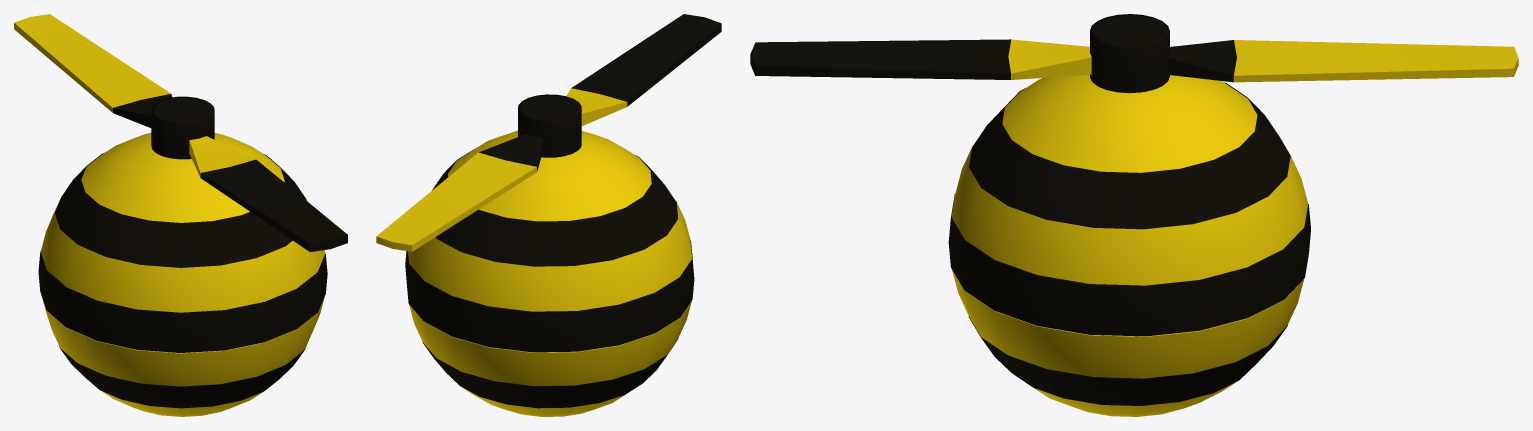
Rendered from fan sphere_01.fbx.
3 views of the same model, side by side, from view 1: azimuth 30°, elevation 25°; view 2: azimuth 150°, elevation 25°; view 3: azimuth 270°, elevation 25° (orthographic). The views are drawn at different scales.
Visible parts, largest first — view 1: polySurface20; view 2: polySurface20; view 3: polySurface20.
Part boxes in pixels (<box>): polySurface20: <box>14,14,347,416</box>; polySurface20: <box>376,14,721,416</box>; polySurface20: <box>750,14,1518,416</box>.
Bounding box in the file's own units: 2.56 × 2.88 × 5.42.
